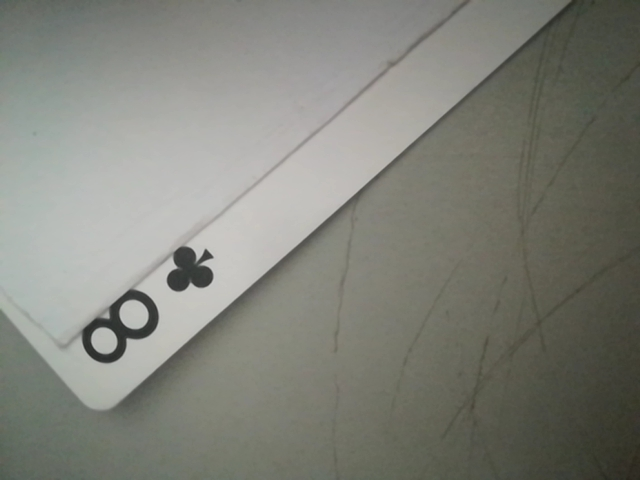mh 8: (62, 236, 224, 382)
